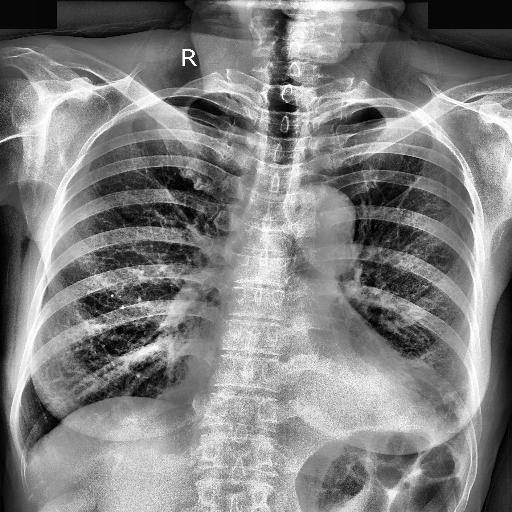0- Aortic enlargement: (280, 184, 359, 274), (280, 184, 356, 268), (286, 184, 354, 248)
3- Cardiomegaly: (180, 360, 440, 442), (181, 369, 443, 442)
7- Lung Opacity: (404, 352, 470, 440)
